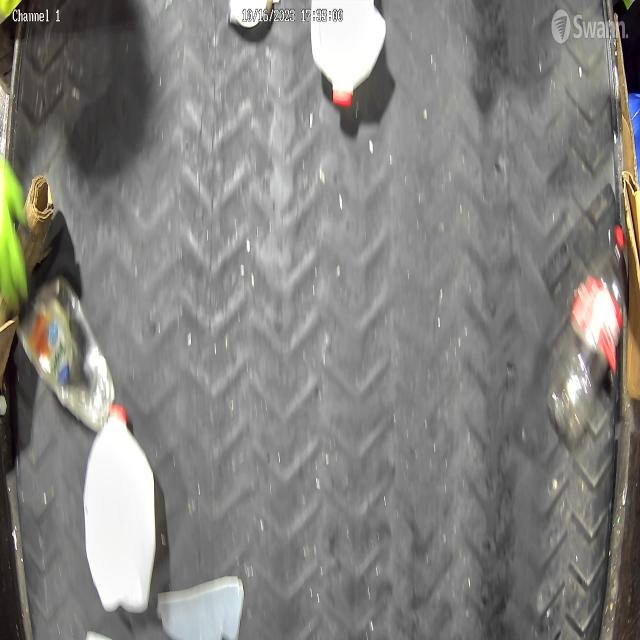milk_jug: (84, 405, 163, 617), (308, 1, 394, 108)
plastic_bottle: (544, 221, 628, 451)
